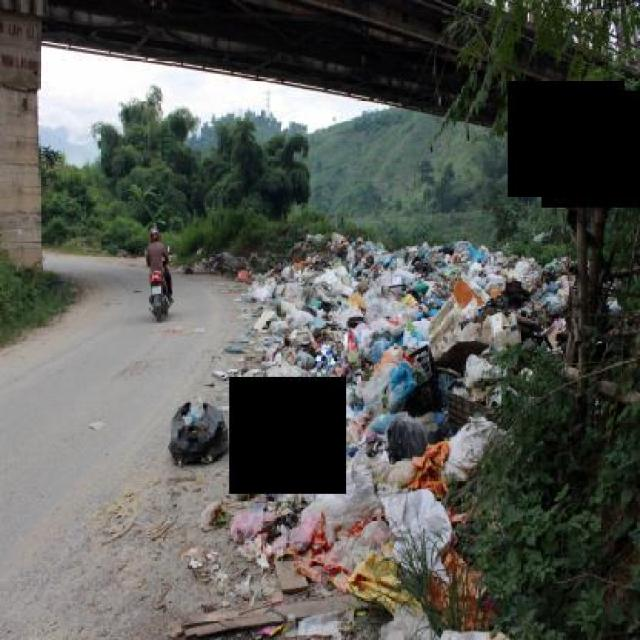plastic bag: (198, 218, 640, 640), (168, 398, 230, 468), (440, 415, 503, 474), (262, 354, 290, 403)
